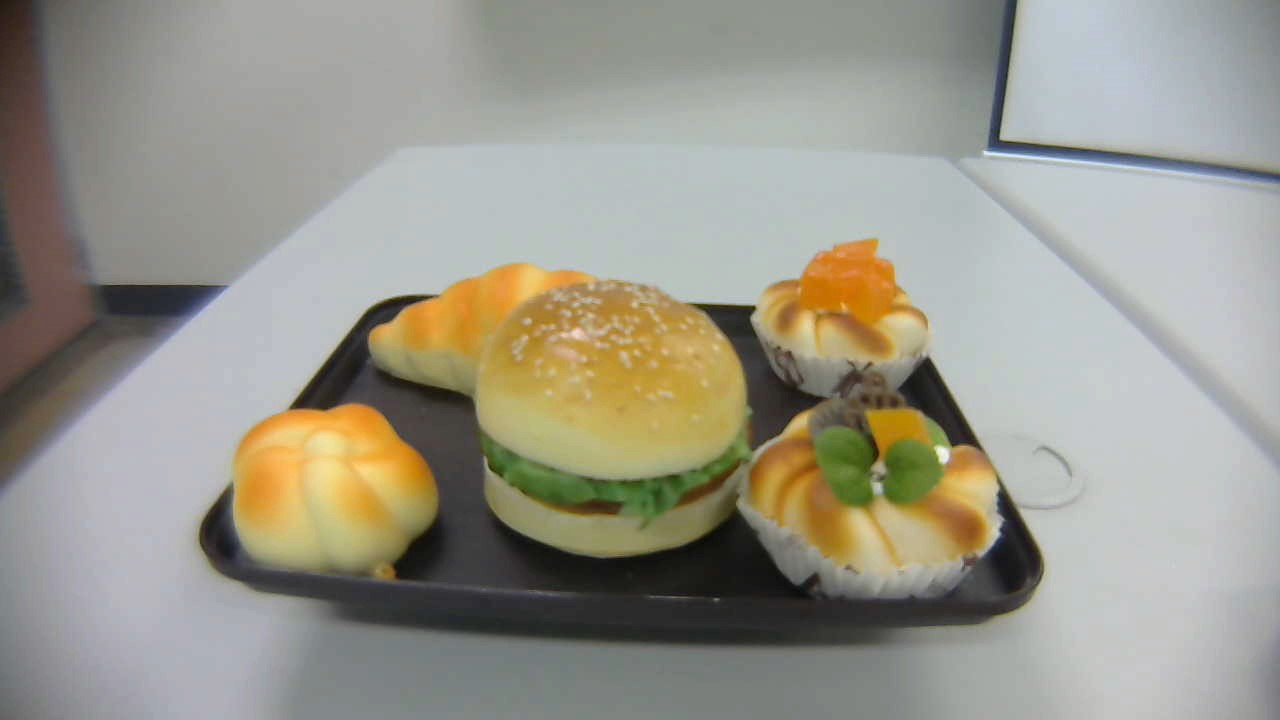croissant: (368, 262, 664, 406)
fruit tart: (738, 374, 1005, 601)
hamburger: (476, 277, 752, 558)
mango tart: (751, 236, 932, 403)
twist bread: (232, 401, 441, 583)
